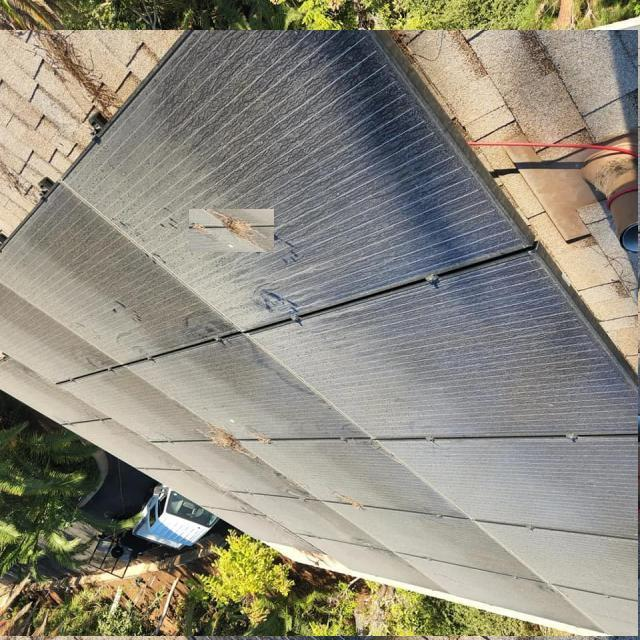Bird-drop: (189, 209, 274, 252), (321, 149, 371, 182)
